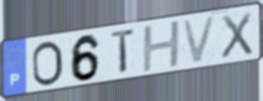6: (69, 32, 104, 83)
H: (141, 18, 182, 75)
O: (30, 40, 65, 89)
T: (110, 26, 138, 77)
V: (180, 14, 219, 66)
X: (220, 10, 255, 61)
